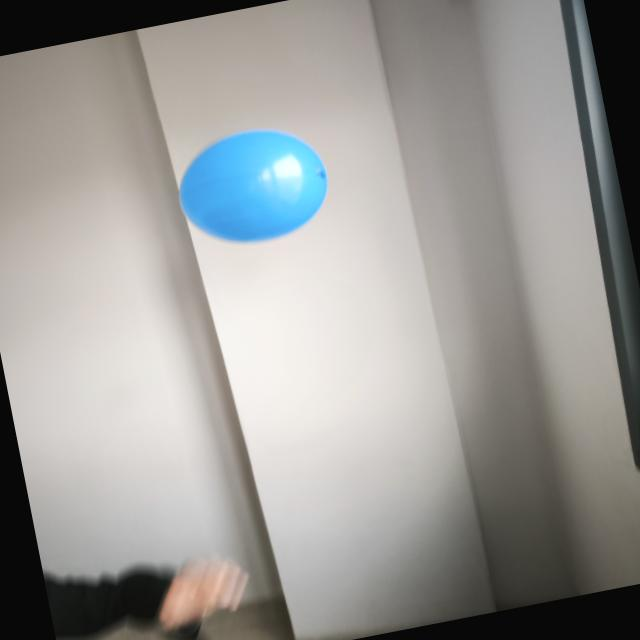balloon: (180, 130, 328, 241)
